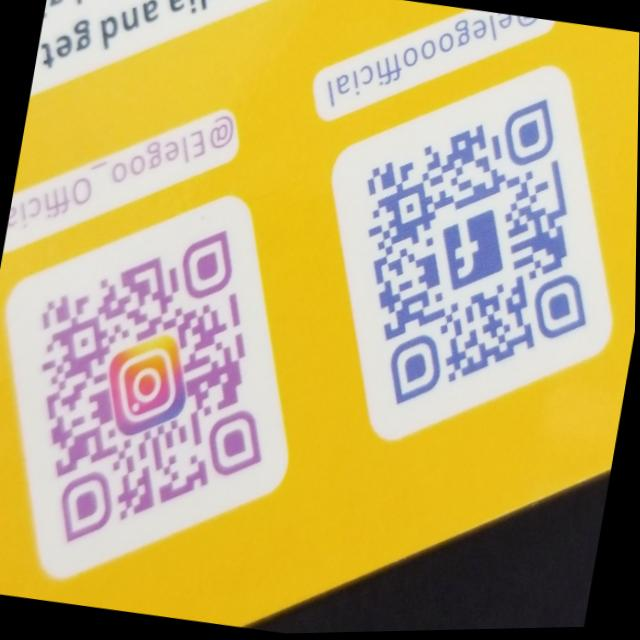QR_CODE: (319, 43, 635, 447), (0, 187, 311, 582)
